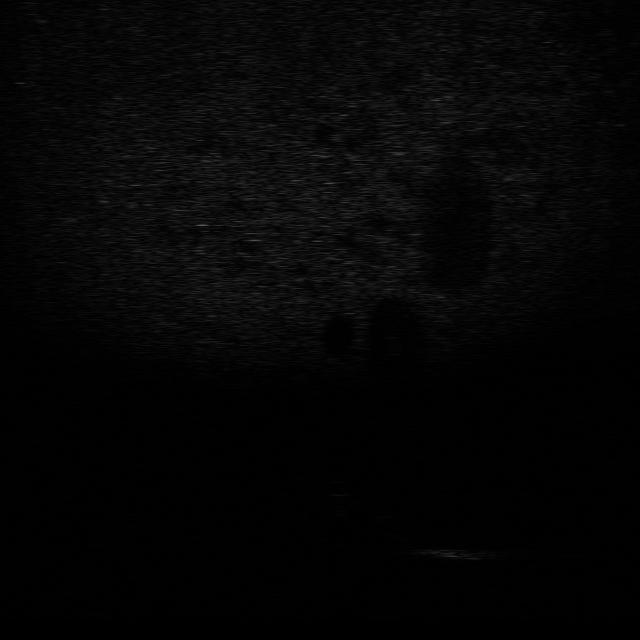ball: (319, 477, 356, 499)
metal bucket: (414, 542, 514, 562)
tyre: (372, 512, 428, 542)
